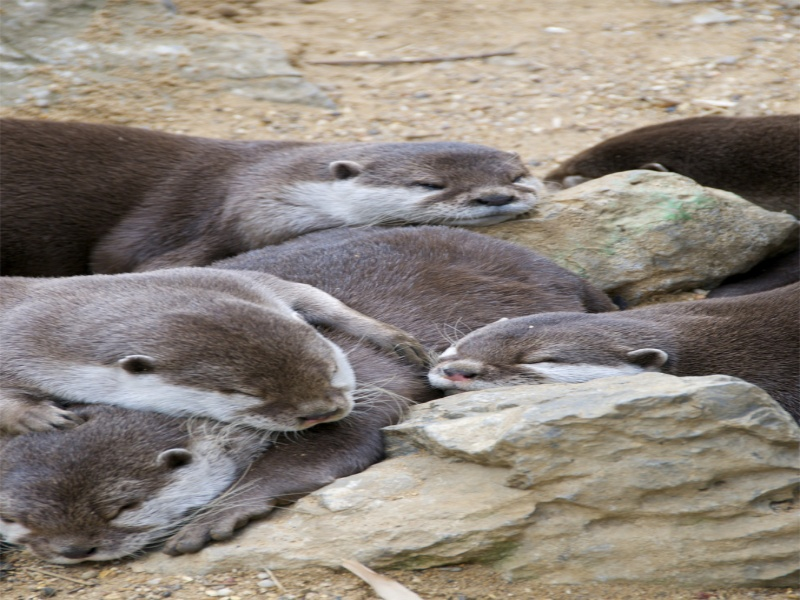minkish: (1, 231, 617, 576), (1, 102, 539, 244), (1, 255, 363, 441), (428, 289, 800, 444), (547, 103, 797, 198)
